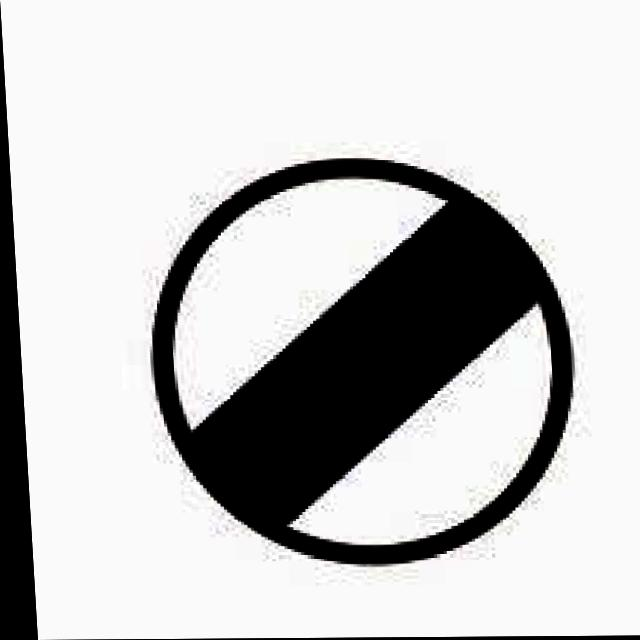RESTRICTION_ENDS: (139, 154, 580, 573)
